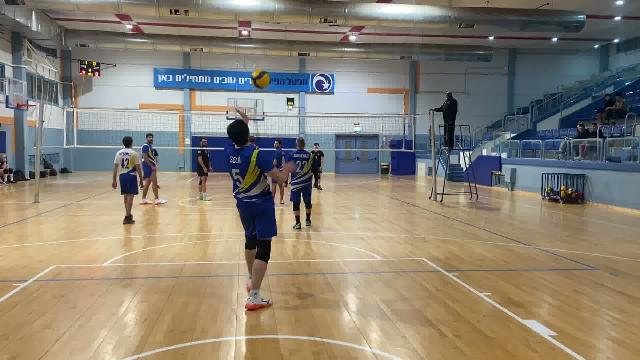ball: (247, 67, 269, 90)
